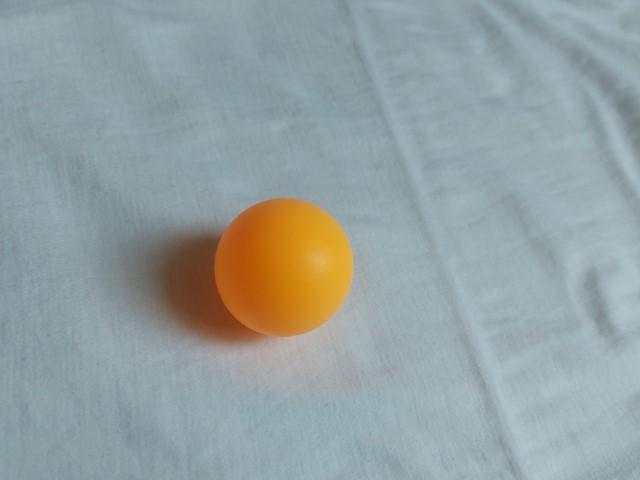oball: (207, 194, 357, 341)
